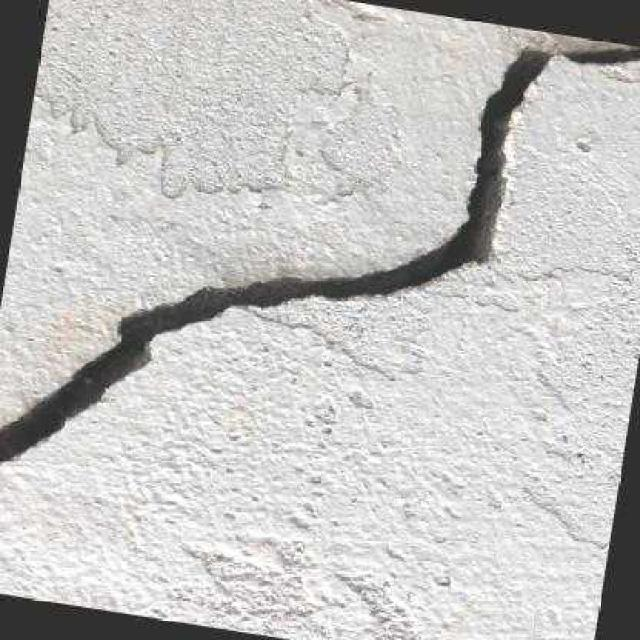D00: (0, 43, 640, 468)
